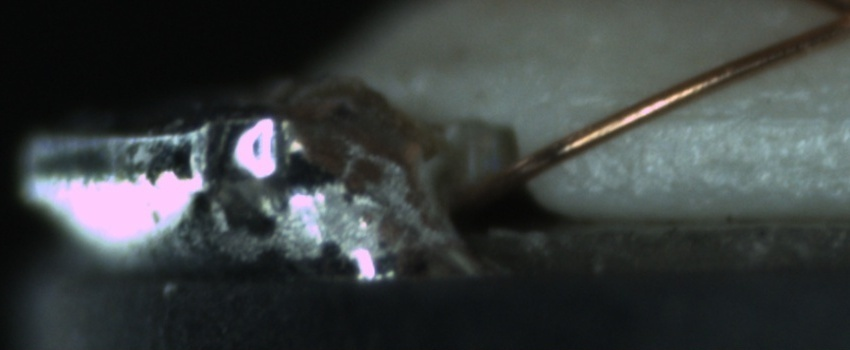CL: (810, 1, 850, 43)
DL: (632, 78, 850, 150)
